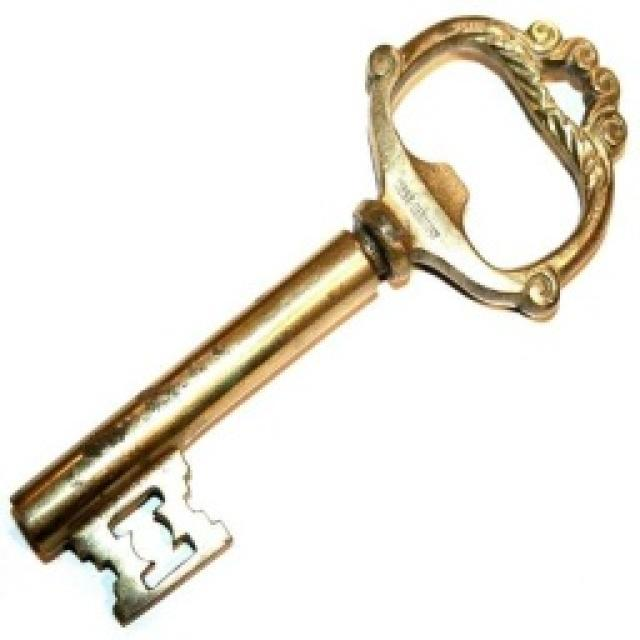anahtar: (5, 8, 633, 630)
